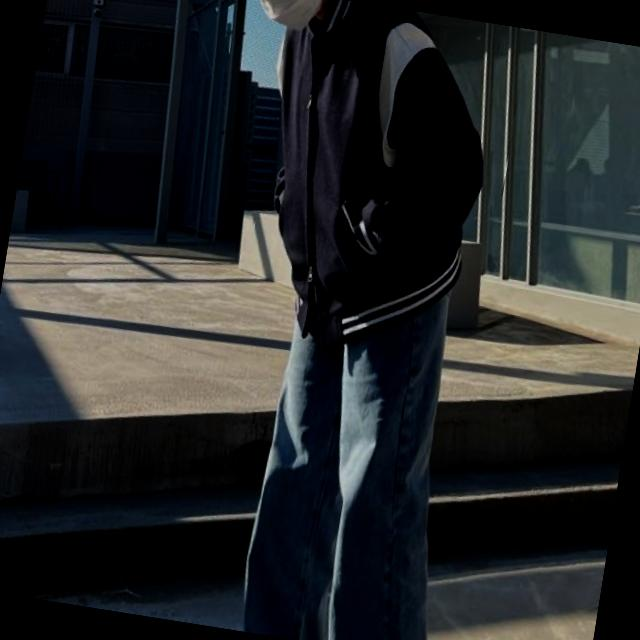denimpants: (243, 267, 492, 640)
jacket: (231, 0, 504, 367)
